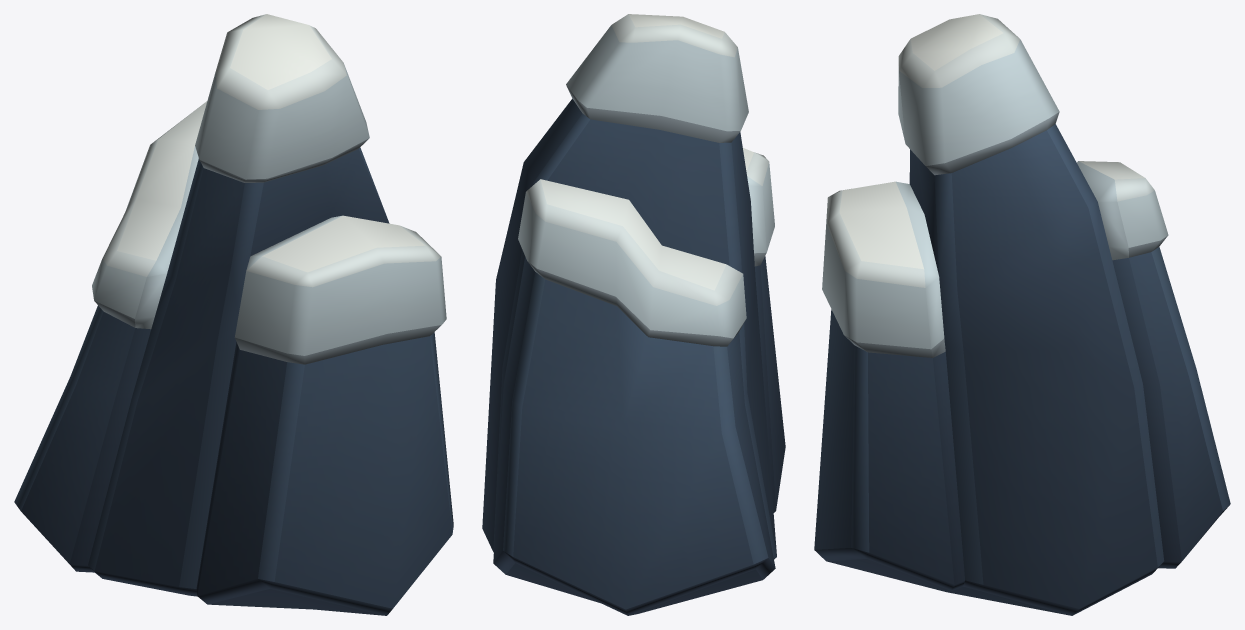
Rendered from rock_snow_012.fbx.
The picture shows the model from 3 angles, left to right: view 1: azimuth 30°, elevation 25°; view 2: azimuth 150°, elevation 25°; view 3: azimuth 270°, elevation 25°; orthographic projection. The views are drawn at different scales.
Parts seen in each view (by area): view 1: rock_snow_012; view 2: rock_snow_012; view 3: rock_snow_012.
Part boxes in pixels (x1,y1,x2,y2): rock_snow_012: [14, 14, 453, 615]; rock_snow_012: [482, 14, 785, 615]; rock_snow_012: [814, 14, 1230, 615].
Size of the model in its own units: 171 by 297 by 202.
1 material, 1 textured.
